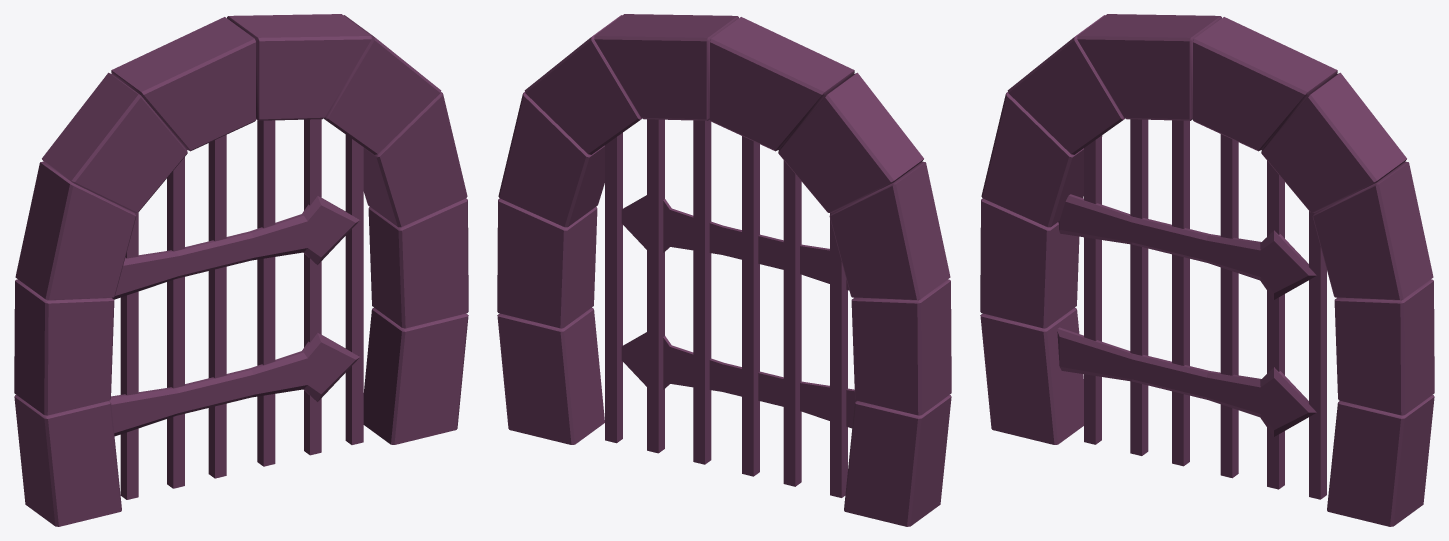
File: Door.fbx
3 renders of one model, left to right at view 1: azimuth 30°, elevation 25°; view 2: azimuth 150°, elevation 25°; view 3: azimuth 330°, elevation 25°, orthographic.
Parts seen in each view (by area): view 1: Door; view 2: Door; view 3: Door.
Part boxes in pixels (left/top/right/bottom): Door: left=14, top=14, right=468, bottom=526; Door: left=497, top=14, right=951, bottom=526; Door: left=980, top=14, right=1434, bottom=526.
Size of the model in its own units: 16.58 by 16.44 by 2.21.
